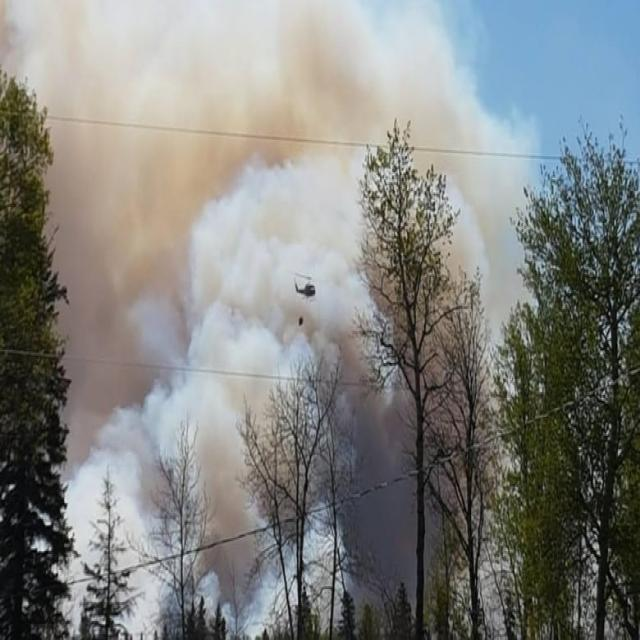smoke: (65, 5, 353, 309), (86, 325, 248, 543), (354, 4, 494, 131)
